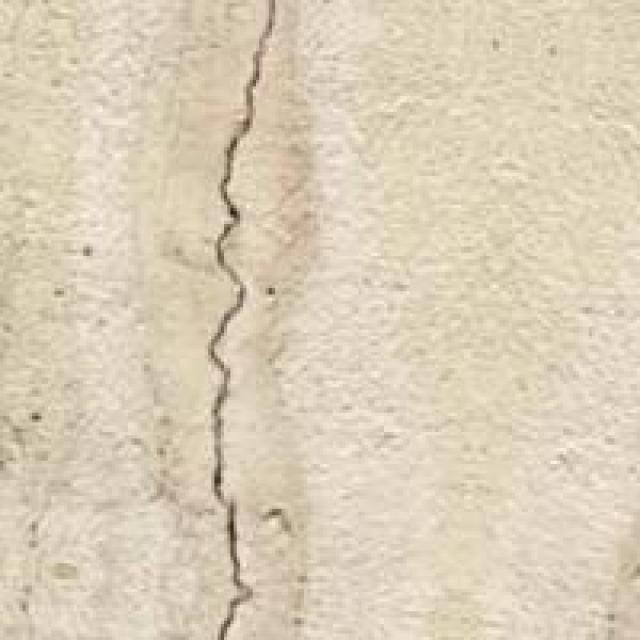Crack: (128, 3, 342, 637)
